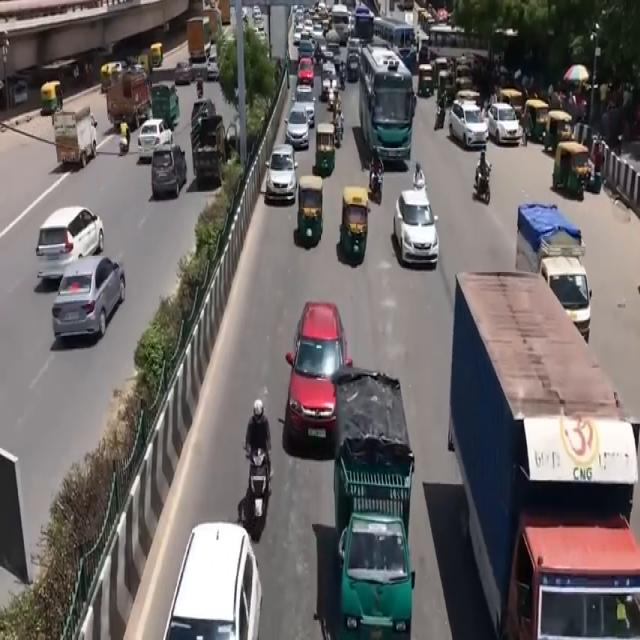BUS: (358, 48, 414, 171)
CMT: (322, 369, 431, 640)
MOTORCYCLE: (250, 444, 272, 542)
TRUCK: (53, 112, 98, 170)
